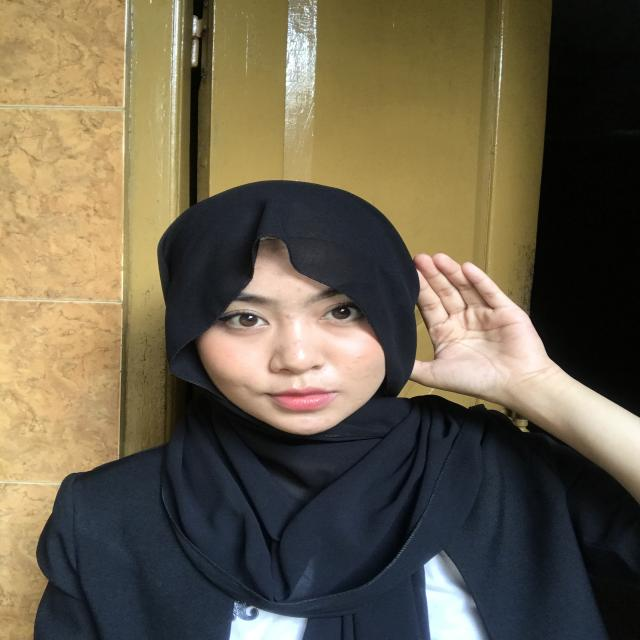mendengar: (375, 238, 571, 421)
